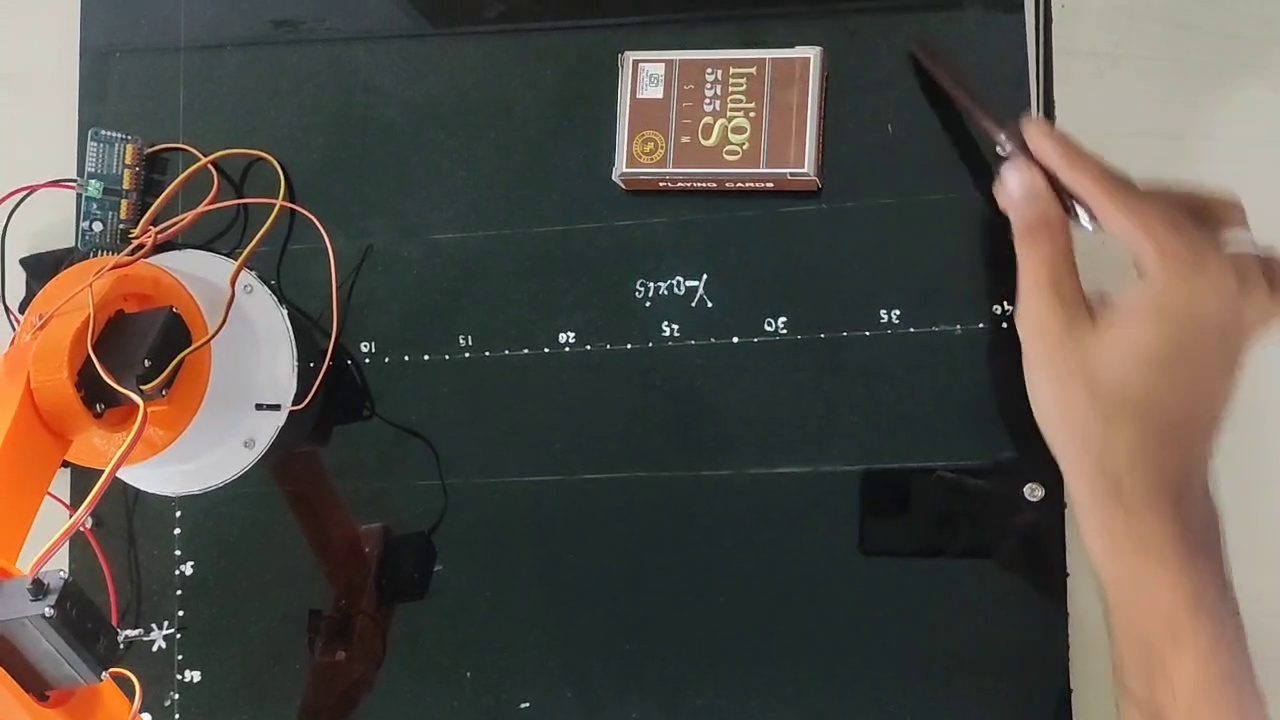BEX: (619, 53, 809, 169)
